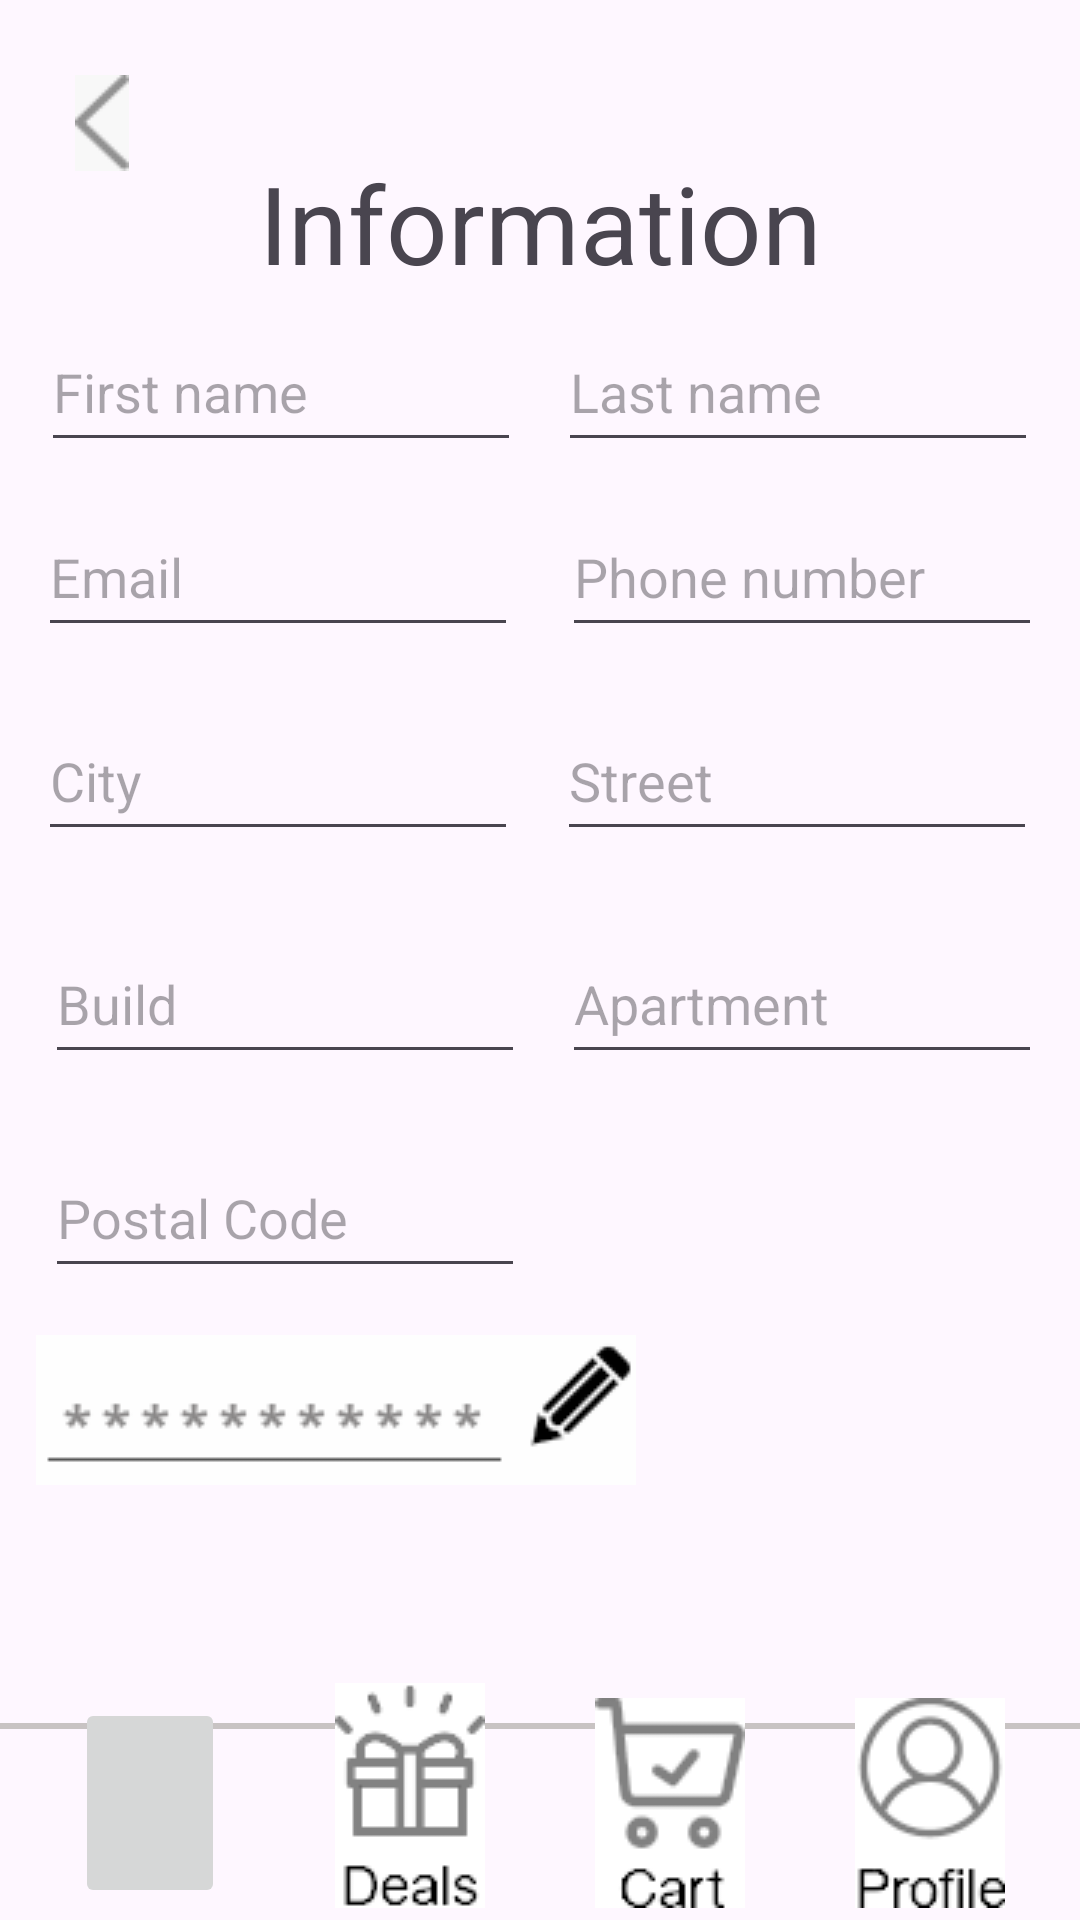

Screen size 1080×1920. Icon name, then its box in pixels as {"x1": x1, "y1": y1, "x2": x2, "y2": y2}:
back: {"x1": 75, "y1": 75, "x2": 129, "y2": 171}
